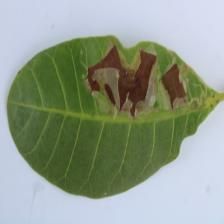leaf miner: (6, 34, 224, 200)
